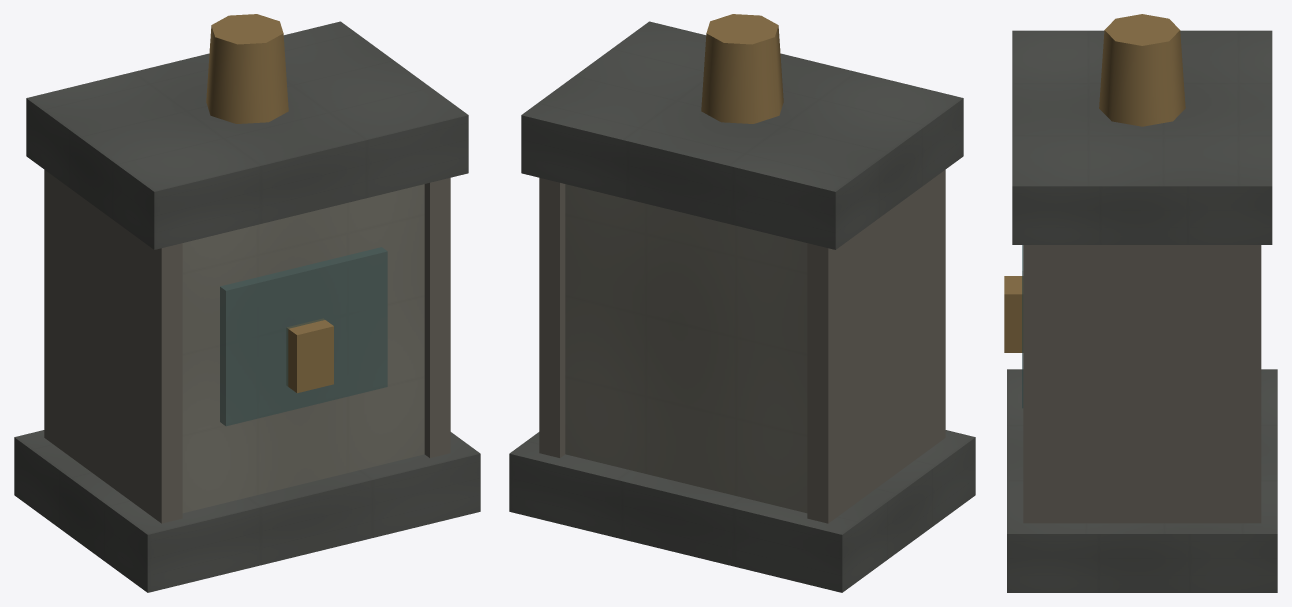
File: sk-reliquary.glb
3 renders of one model, left to right at view 1: azimuth 30°, elevation 25°; view 2: azimuth 150°, elevation 25°; view 3: azimuth 270°, elevation 25°, orthographic.
Parts seen in each view (by area): view 1: interior:reliquary-static-reliquary-stone, reliquary-body, interior:reliquary-static-reliquary-metal, reliquary-window, interior:reliquary-static-reliquary-lock; view 2: interior:reliquary-static-reliquary-stone, reliquary-body, interior:reliquary-static-reliquary-metal, interior:reliquary-static-reliquary-lock; view 3: interior:reliquary-static-reliquary-stone, interior:reliquary-static-reliquary-metal, interior:reliquary-static-reliquary-lock.
Boxes of the visible parts, bbox=[...] form: interior:reliquary-static-reliquary-stone: bbox=[14, 21, 480, 592]; reliquary-body: bbox=[182, 184, 424, 513]; interior:reliquary-static-reliquary-metal: bbox=[44, 170, 450, 523]; reliquary-window: bbox=[220, 247, 387, 426]; interior:reliquary-static-reliquary-lock: bbox=[206, 14, 333, 393]; interior:reliquary-static-reliquary-stone: bbox=[509, 21, 975, 592]; reliquary-body: bbox=[565, 184, 807, 513]; interior:reliquary-static-reliquary-metal: bbox=[539, 170, 945, 523]; interior:reliquary-static-reliquary-lock: bbox=[701, 14, 783, 123]; interior:reliquary-static-reliquary-stone: bbox=[1007, 30, 1277, 592]; interior:reliquary-static-reliquary-metal: bbox=[1023, 245, 1261, 523]; interior:reliquary-static-reliquary-lock: bbox=[1004, 14, 1185, 352].
Bounding box in the file's own units: 0.72 × 0.98 × 0.505.
5 materials, 2 textured.
